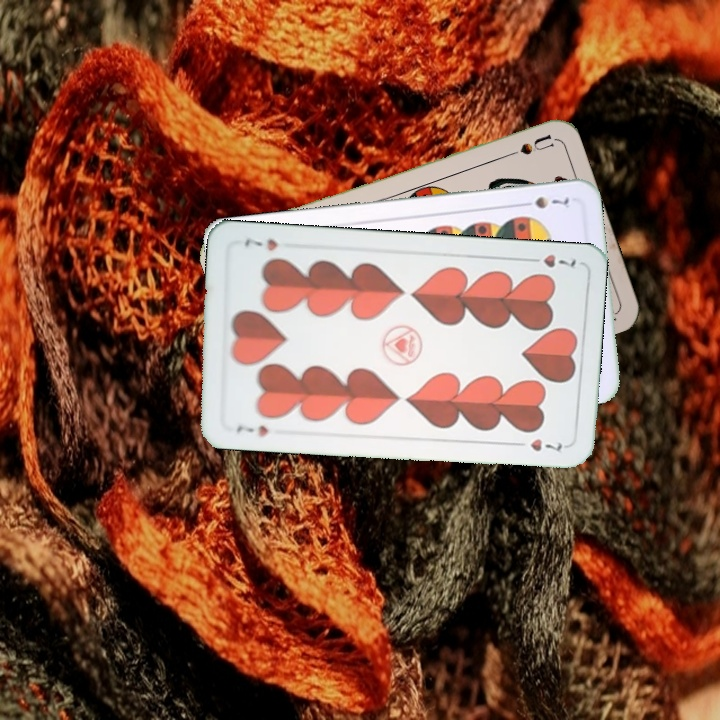H7: (522, 250, 579, 270), (232, 420, 271, 439)
S7: (516, 192, 572, 212)
SU: (497, 129, 556, 162)
